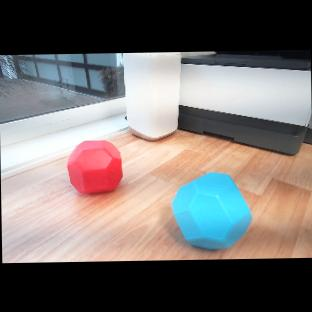V5_BLUE: (171, 171, 253, 252)
V5_RED: (66, 138, 125, 195)
